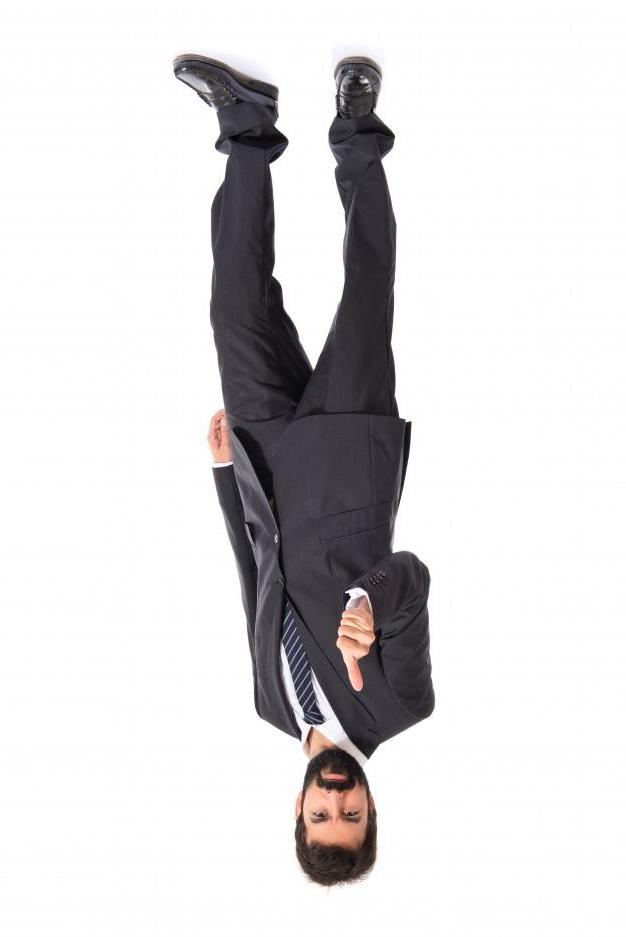thumbsdown: (337, 610, 376, 691)
